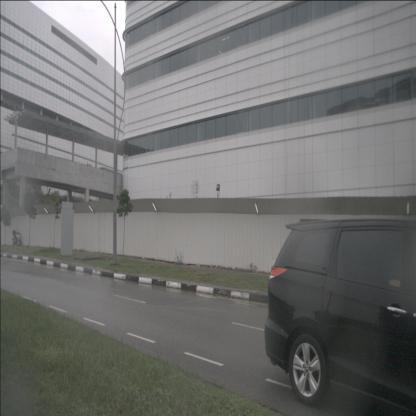vehicle-car: (264, 216, 415, 415)
vehicle-motorcycle: (11, 228, 21, 247)
